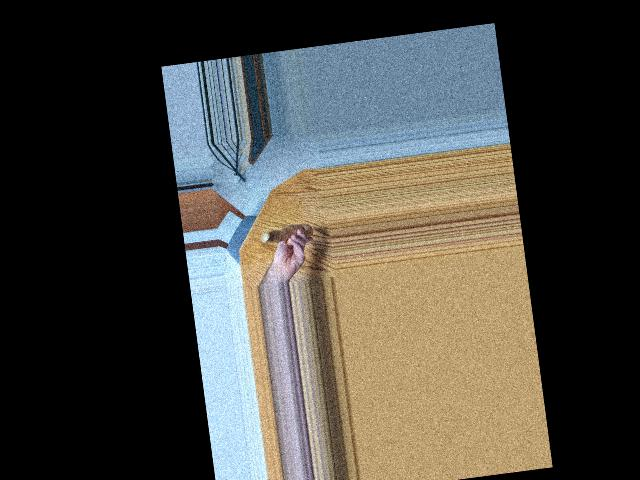sweet_potato: (259, 222, 312, 248)
